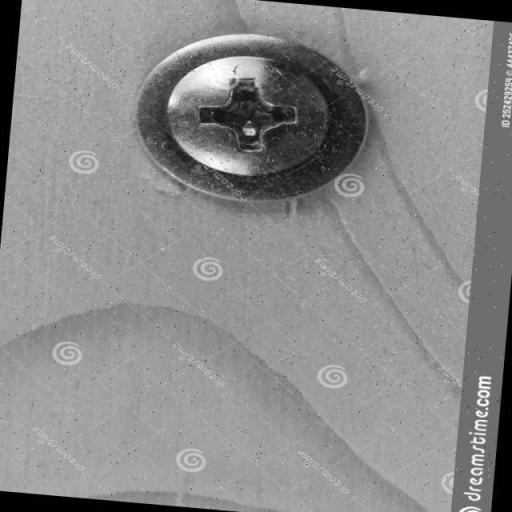Phillips: (142, 28, 361, 208)
